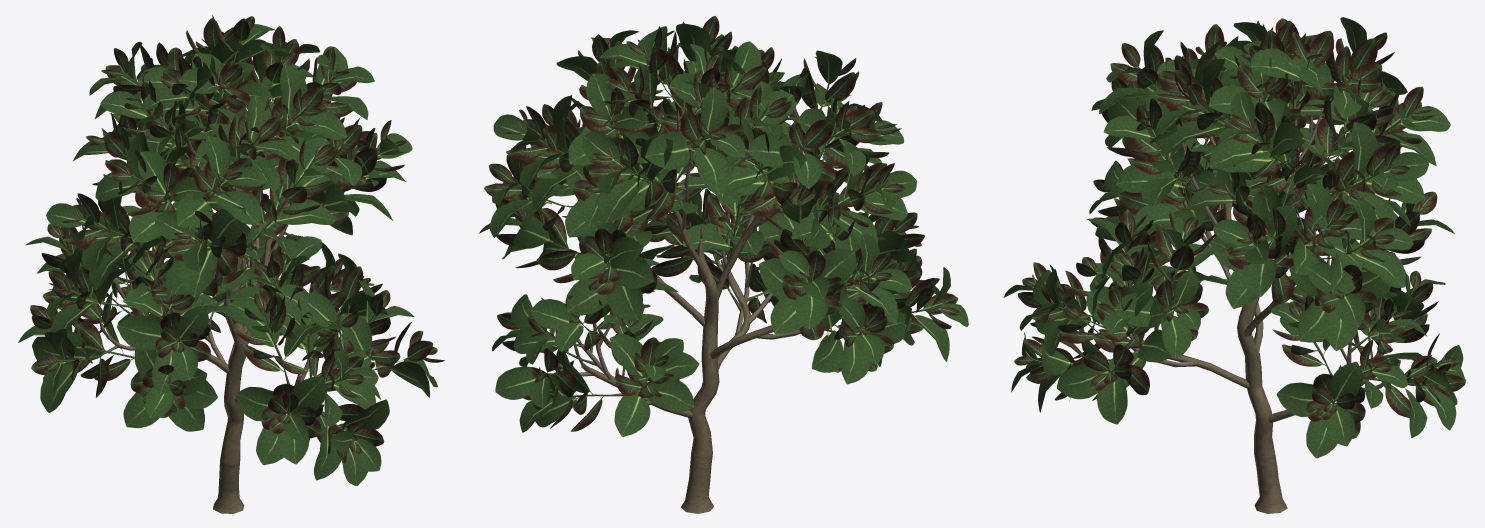
Rendered from rubber_fig.glb.
3 views of the same model, side by side, from view 1: azimuth 30°, elevation 25°; view 2: azimuth 150°, elevation 25°; view 3: azimuth 270°, elevation 25° (orthographic). The views are drawn at different scales.
Visible parts, largest first — view 1: Bark01_1_w; view 2: Bark01_1_w; view 3: Bark01_1_w.
Part boxes in pixels (left/top/right/bottom): Bark01_1_w: left=18, top=15, right=444, bottom=513; Bark01_1_w: left=479, top=16, right=968, bottom=513; Bark01_1_w: left=1003, top=17, right=1465, bottom=513.
Size of the model in its own units: 3.78 by 4.2 by 3.66.
6 materials, 6 textured.
